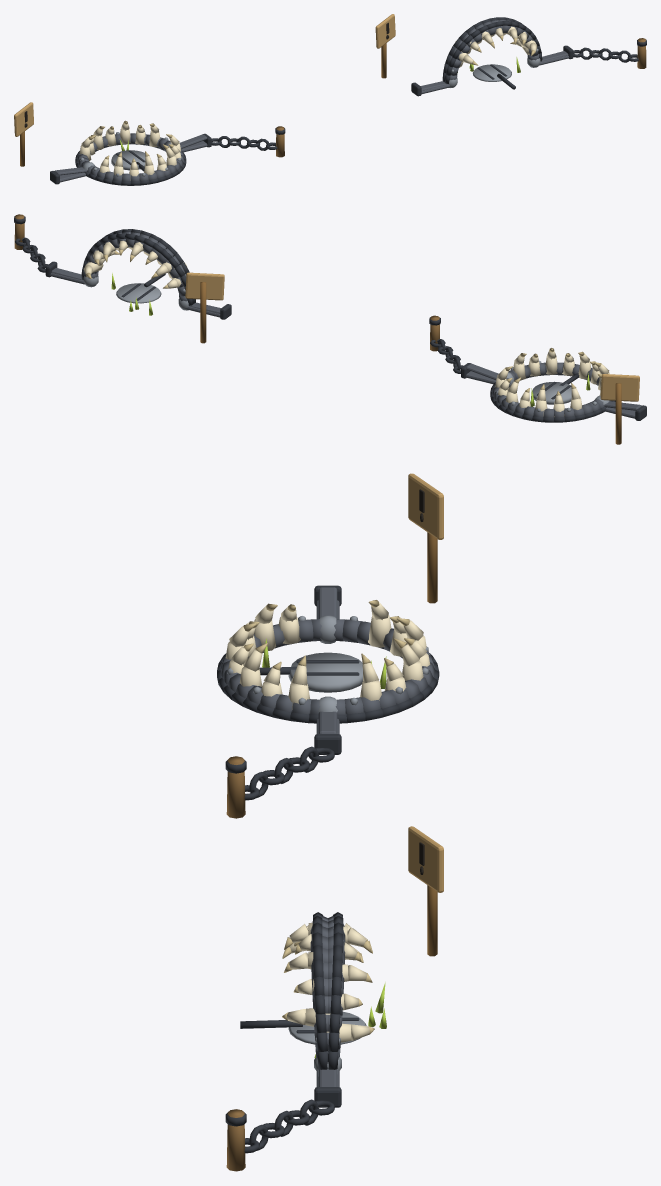
File: piege-dents.glb
3 renders of one model, top to bottom at view 1: azimuth 30°, elevation 25°; view 2: azimuth 150°, elevation 25°; view 3: azimuth 270°, elevation 25°, orthographic. The views are drawn at different scales.
Visible parts, largest first — view 1: dent, machoire, machoire.003, machoire.002, dent.002, ressort, machoire.001, maillon.001, maillon, ressort.001, plaque.002, panneau (+2 smaller); view 2: dent, machoire, machoire.003, dent.002, machoire.002, panneau, panneau.001, ressort, machoire.001, plaque.002, ressort.001, plaque (+4 smaller); view 3: dent, machoire, machoire.003, dent.002, machoire.001, plaque, maillon.001, panneau, panneau.001, maillon, machoire.002, ressort (+2 smaller).
Boxes of the visible parts, x1=… form: dent: x1=79, y1=122, x2=181, y2=180; machoire: x1=77, y1=133, x2=184, y2=181; machoire.003: x1=442, y1=17, x2=542, y2=83; machoire.002: x1=448, y1=20, x2=538, y2=79; dent.002: x1=455, y1=26, x2=537, y2=67; ressort: x1=54, y1=134, x2=207, y2=182; machoire.001: x1=75, y1=151, x2=186, y2=185; maillon.001: x1=573, y1=47, x2=638, y2=62; maillon: x1=211, y1=136, x2=277, y2=150; ressort.001: x1=420, y1=51, x2=569, y2=93; plaque.002: x1=472, y1=64, x2=511, y2=81; panneau: x1=14, y1=102, x2=33, y2=136; dent: x1=495, y1=350, x2=609, y2=416; machoire: x1=492, y1=362, x2=611, y2=417; machoire.003: x1=81, y1=229, x2=195, y2=305; dent.002: x1=83, y1=240, x2=186, y2=288; machoire.002: x1=85, y1=232, x2=187, y2=301; panneau: x1=600, y1=374, x2=639, y2=401; panneau.001: x1=185, y1=272, x2=224, y2=300; ressort: x1=466, y1=363, x2=641, y2=418; machoire.001: x1=490, y1=382, x2=615, y2=422; plaque.002: x1=116, y1=283, x2=161, y2=303; ressort.001: x1=50, y1=268, x2=220, y2=317; plaque: x1=532, y1=382, x2=571, y2=404; dent: x1=225, y1=602, x2=430, y2=709; machoire: x1=220, y1=619, x2=435, y2=714; machoire.003: x1=312, y1=912, x2=343, y2=1069; dent.002: x1=287, y1=922, x2=369, y2=1042; machoire.001: x1=217, y1=653, x2=439, y2=723; plaque: x1=288, y1=652, x2=362, y2=692; maillon.001: x1=244, y1=1099, x2=334, y2=1153; panneau: x1=408, y1=473, x2=443, y2=539; panneau.001: x1=408, y1=826, x2=443, y2=892; maillon: x1=244, y1=746, x2=334, y2=800; machoire.002: x1=310, y1=916, x2=345, y2=1059; ressort: x1=316, y1=587, x2=339, y2=734.
Size of the model in its own units: 6.51 by 0.6763 by 1.09.
